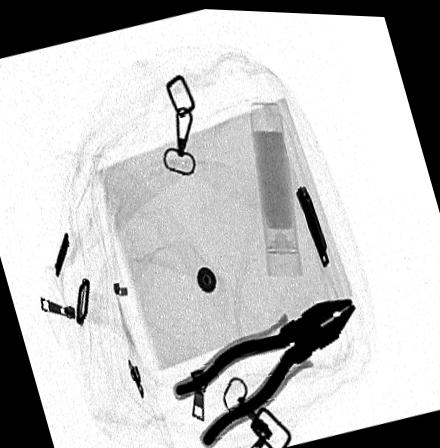Pliers: (174, 293, 357, 448)
